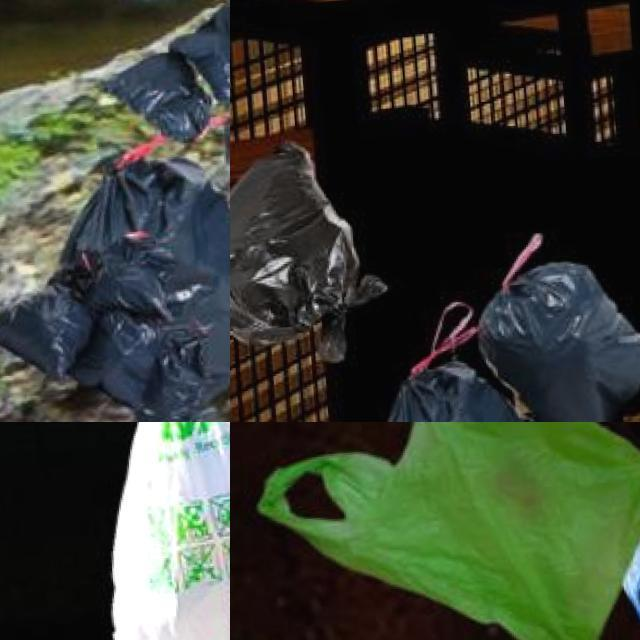waste: (267, 422, 640, 640), (47, 149, 230, 398), (230, 134, 386, 351), (75, 422, 230, 640), (480, 255, 640, 422), (376, 344, 555, 422), (0, 268, 94, 373), (109, 49, 210, 145), (89, 232, 167, 315)
